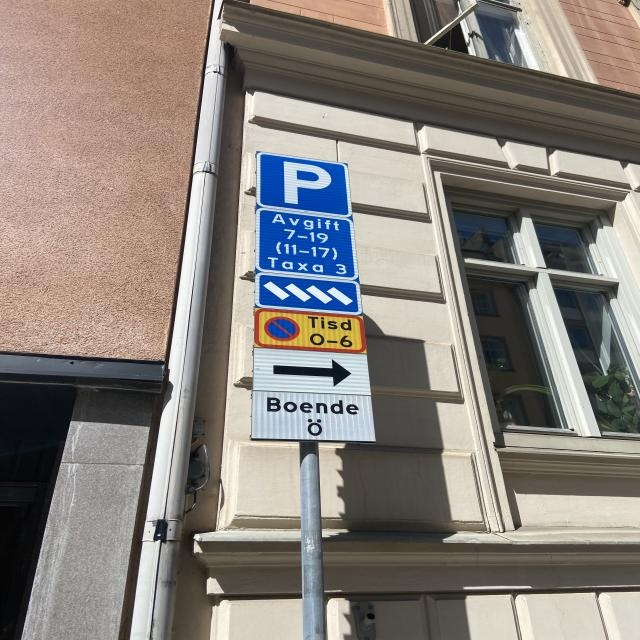P-skylt: (257, 152, 350, 220)
